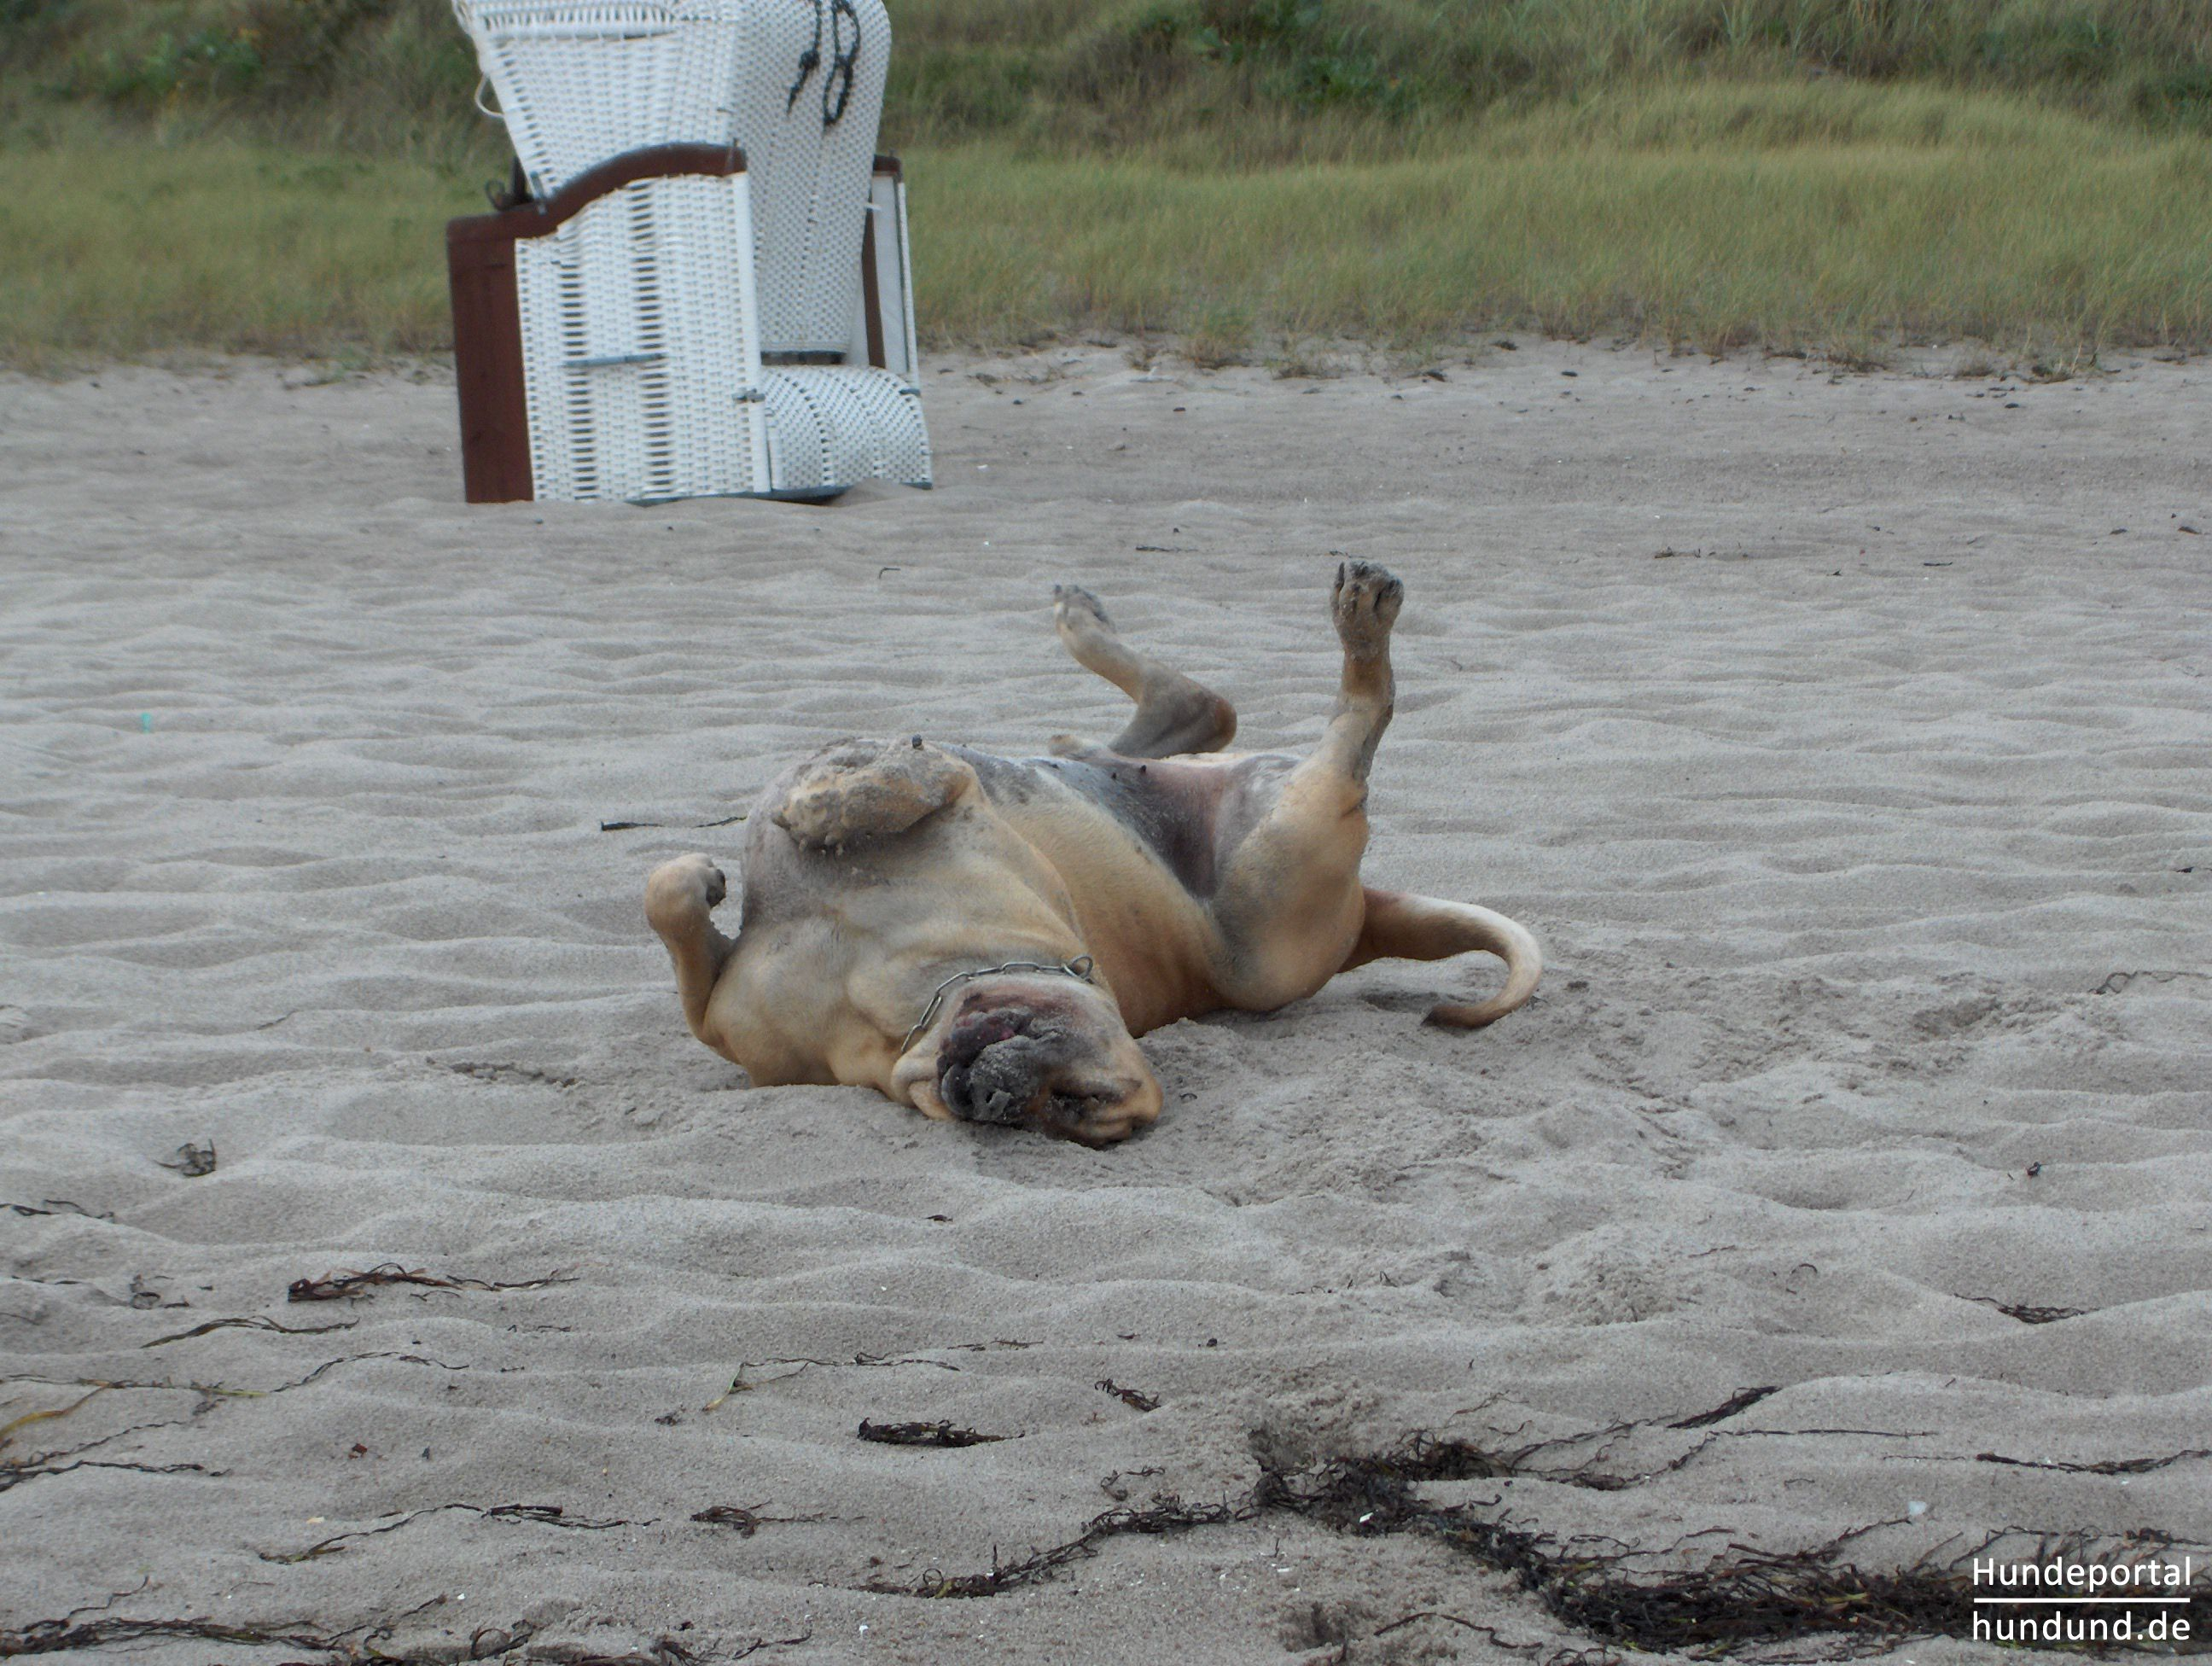fila_brasileiro: (640, 556, 1547, 1150)
